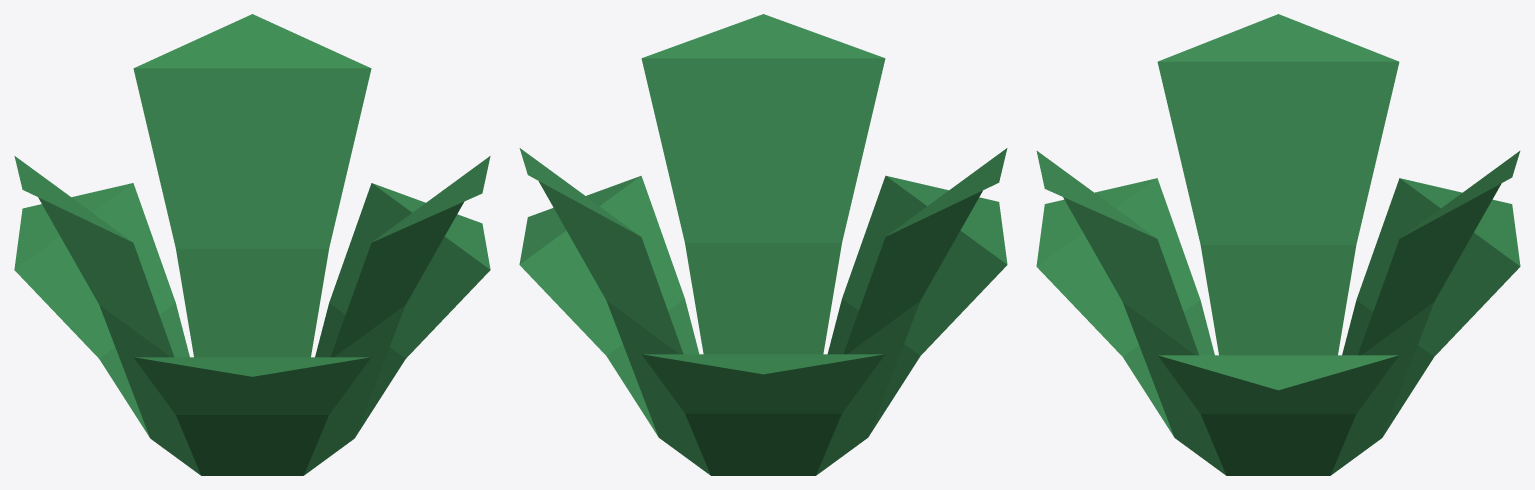
The model's file is plant.glb.
3 views of the same model, side by side, from view 1: azimuth 30°, elevation 25°; view 2: azimuth 150°, elevation 25°; view 3: azimuth 270°, elevation 25° (orthographic). The views are drawn at different scales.
Visible parts, largest first — view 1: plant; view 2: plant; view 3: plant.
Part boxes in pixels (x1,y1,x2,y2): plant: (14,14,490,475); plant: (519,14,1007,475); plant: (1036,14,1520,475).
Size of the model in its own units: 6.45 by 4.19 by 5.79.
